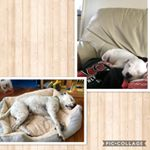puppy: (1, 91, 79, 140), (96, 46, 150, 88)
